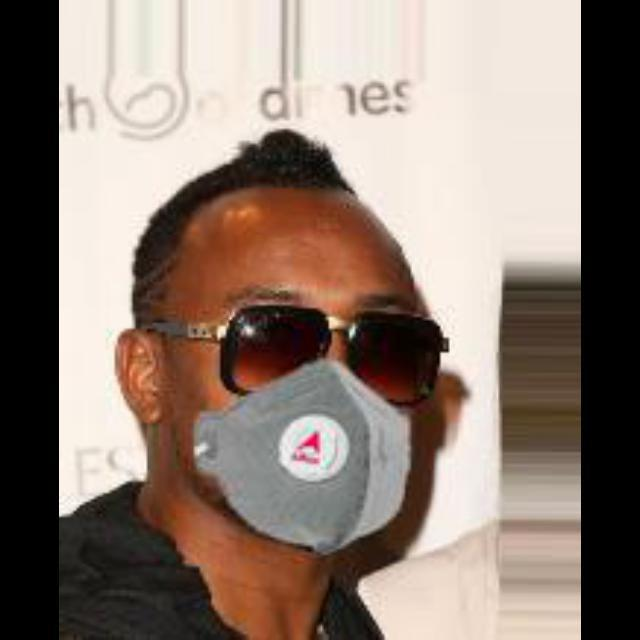suspicion: (140, 141, 488, 587)
